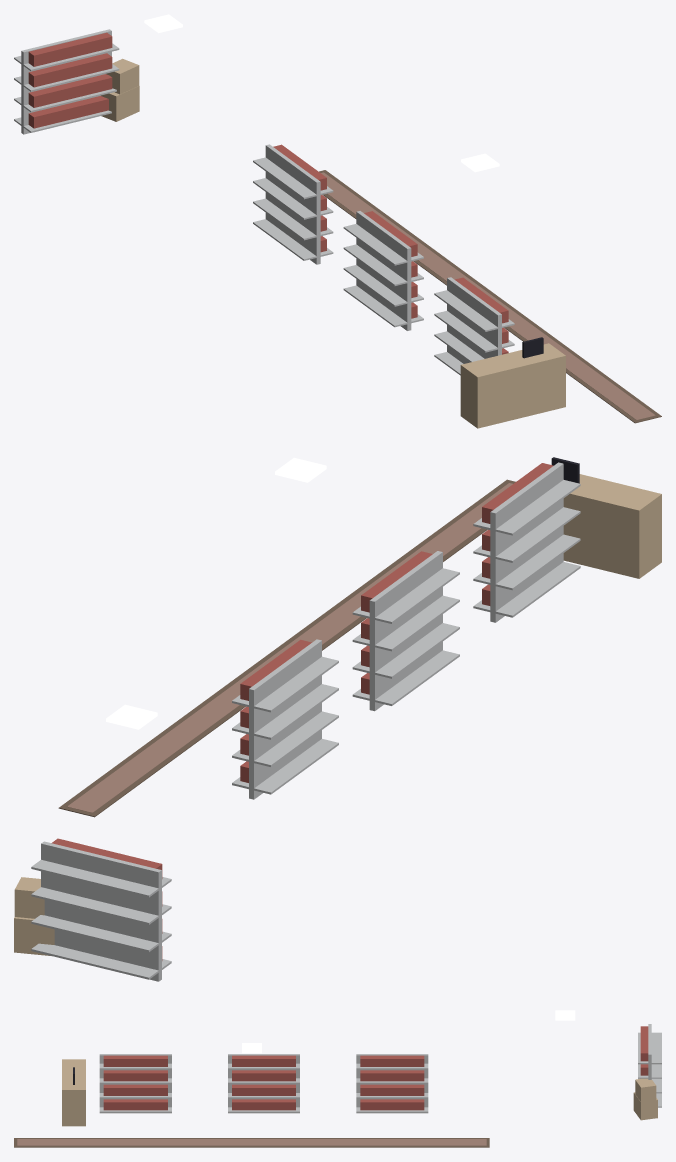
File: fine-s0.glb
3 views of the same model, one above another, from view 1: azimuth 30°, elevation 25°; view 2: azimuth 150°, elevation 25°; view 3: azimuth 270°, elevation 25° (orthographic). The views are drawn at different scales.
Parts seen in each view (by area): view 1: shelving.000, shop-counter.000, shelf.001, shelf.000, soft-s0, shelf.002, cardboard-box.000; view 2: shelving.000, shelf.001, shelf.002, shelf.000, soft-s0, shop-counter.000, cardboard-box.000, ceiling-lamp.000, ceiling-lamp.001; view 3: soft-s0, shelf.000, shelf.002, shelf.001, shop-counter.000, shelving.000, cardboard-box.000, ceiling-lamp.001.
Boxes of the visible parts, left/top/right/bottom form: shelving.000: left=14, top=29, right=119, bottom=134; shop-counter.000: left=460, top=337, right=565, bottom=428; shelf.001: left=343, top=211, right=423, bottom=330; shelf.000: left=253, top=144, right=333, bottom=264; soft-s0: left=319, top=170, right=661, bottom=423; shelf.002: left=434, top=277, right=514, bottom=375; cardboard-box.000: left=101, top=58, right=139, bottom=121; shelving.000: left=31, top=838, right=171, bottom=981; shelf.001: left=352, top=551, right=459, bottom=711; shelf.002: left=473, top=462, right=580, bottom=622; shelf.000: left=232, top=639, right=338, bottom=799; soft-s0: left=58, top=479, right=515, bottom=817; shop-counter.000: left=551, top=457, right=661, bottom=578; cardboard-box.000: left=14, top=877, right=54, bottom=955; ceiling-lamp.000: left=275, top=457, right=326, bottom=482; ceiling-lamp.001: left=106, top=704, right=157, bottom=729; soft-s0: left=14, top=1138, right=489, bottom=1147; shelf.000: left=356, top=1054, right=428, bottom=1113; shelf.002: left=99, top=1054, right=171, bottom=1113; shelf.001: left=228, top=1054, right=299, bottom=1113; shop-counter.000: left=62, top=1059, right=85, bottom=1126; shelving.000: left=638, top=1024, right=661, bottom=1107; cardboard-box.000: left=633, top=1078, right=657, bottom=1120; ceiling-lamp.001: left=555, top=1010, right=575, bottom=1020.
Bounding box in the file's own units: 3.86 × 2.64 × 16.17.
